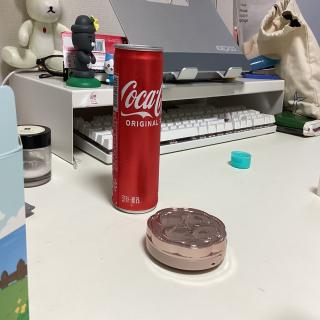cocacola: (110, 39, 164, 213)
